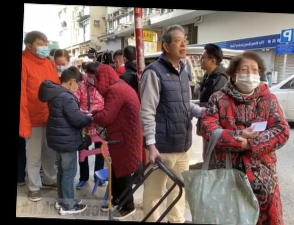with_mask: (235, 62, 261, 93), (32, 40, 49, 58), (52, 60, 68, 73)
without_mask: (169, 33, 188, 58), (198, 53, 212, 73)
